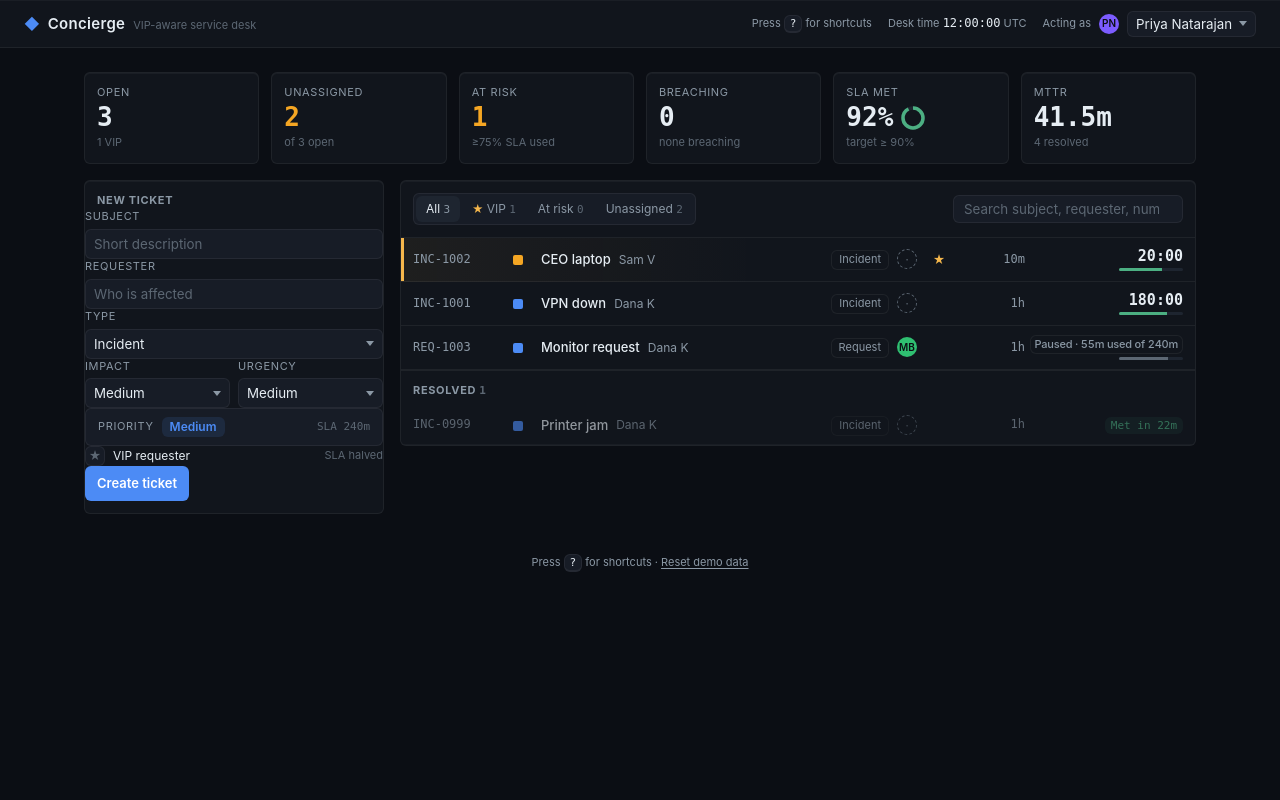
it: reset demo asks for confirmation then toasts the message
The image size is (1280, 800).
Expected: the text "CEO laptop" is shown, [541,250,611,269]
Click the button "Reset demo data" at (705, 563), box [661,555,748,571]
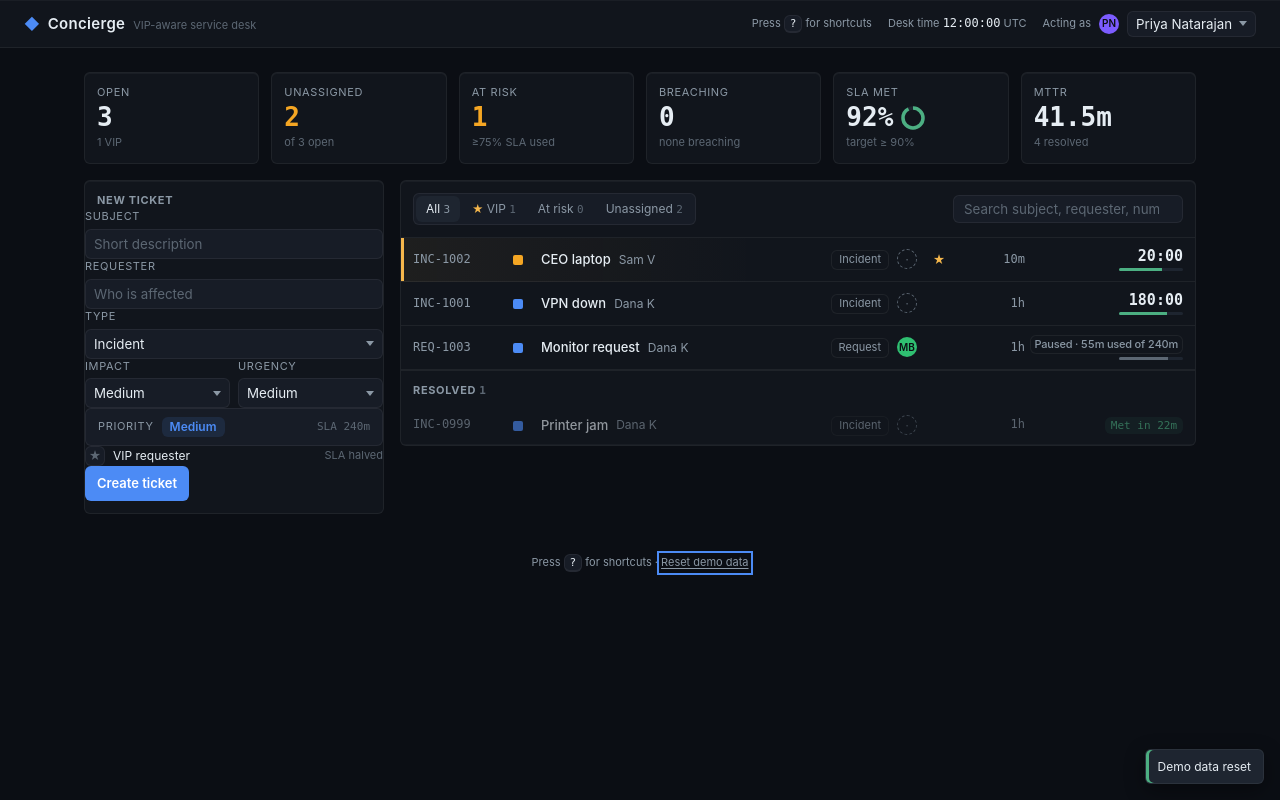
Result: the text "Demo data reset" is shown at [1158,758,1251,775]
